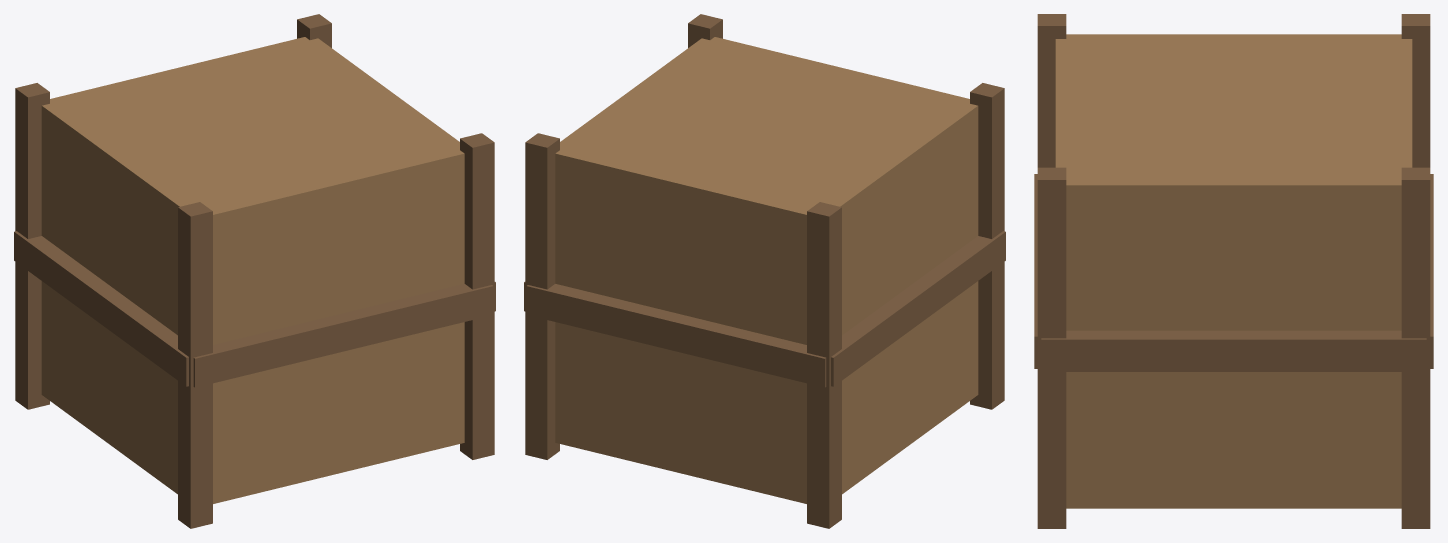
Rendered from crate.glb.
3 views of the same model, side by side, from view 1: azimuth 30°, elevation 25°; view 2: azimuth 150°, elevation 25°; view 3: azimuth 270°, elevation 25° (orthographic). The views are drawn at different scales.
Visible parts, largest first — view 1: body, trim_0, trim_5, trim_4, trim_7, trim_3, trim_6; view 2: body, trim_1, trim_7, trim_6, trim_5, trim_3, trim_4; view 3: body, trim_2, trim_4, trim_6, trim_5, trim_7, trim_0, trim_1.
Boxes of the visible parts, box(x1,y1,x2,y2) form: body: box(41, 37, 464, 503); trim_0: box(193, 284, 493, 387); trim_5: box(178, 202, 212, 528); trim_4: box(460, 133, 494, 459); trim_7: box(15, 83, 49, 409); trim_3: box(14, 231, 213, 386); trim_6: box(297, 14, 331, 47); body: box(555, 37, 978, 503); trim_1: box(526, 284, 826, 387); trim_7: box(807, 202, 841, 528); trim_6: box(525, 133, 559, 459); trim_5: box(970, 83, 1004, 409); trim_3: box(831, 231, 1005, 386); trim_4: box(688, 14, 722, 47); body: box(1055, 34, 1412, 508); trim_2: box(1041, 330, 1426, 371); trim_4: box(1037, 167, 1066, 528); trim_6: box(1401, 167, 1430, 528); trim_5: box(1037, 14, 1066, 167); trim_7: box(1401, 14, 1430, 167); trim_0: box(1034, 174, 1069, 368); trim_1: box(1398, 174, 1433, 368).
Size of the model in its own units: 1.12 by 1.08 by 1.12.
